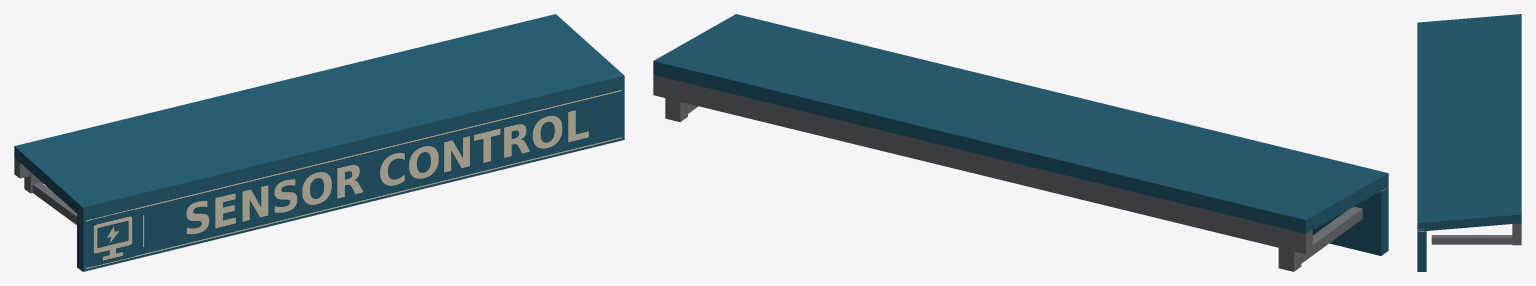
Rendered from installation-sensor-array-entry.glb.
The picture shows the model from 3 angles, left to right: view 1: azimuth 30°, elevation 25°; view 2: azimuth 150°, elevation 25°; view 3: azimuth 270°, elevation 25°; orthographic projection. The views are drawn at different scales.
Visible parts, largest first — view 1: business-sensor-array; view 2: business-sensor-array; view 3: business-sensor-array.
Boxes of the visible parts, x1=… form: business-sensor-array: x1=14, y1=14, x2=624, y2=271; business-sensor-array: x1=653, y1=14, x2=1388, y2=271; business-sensor-array: x1=1417, y1=14, x2=1521, y2=271.
Bounding box in the file's own units: 3 × 0.4 × 0.66.
Materials: 4 (1 with a texture image).
